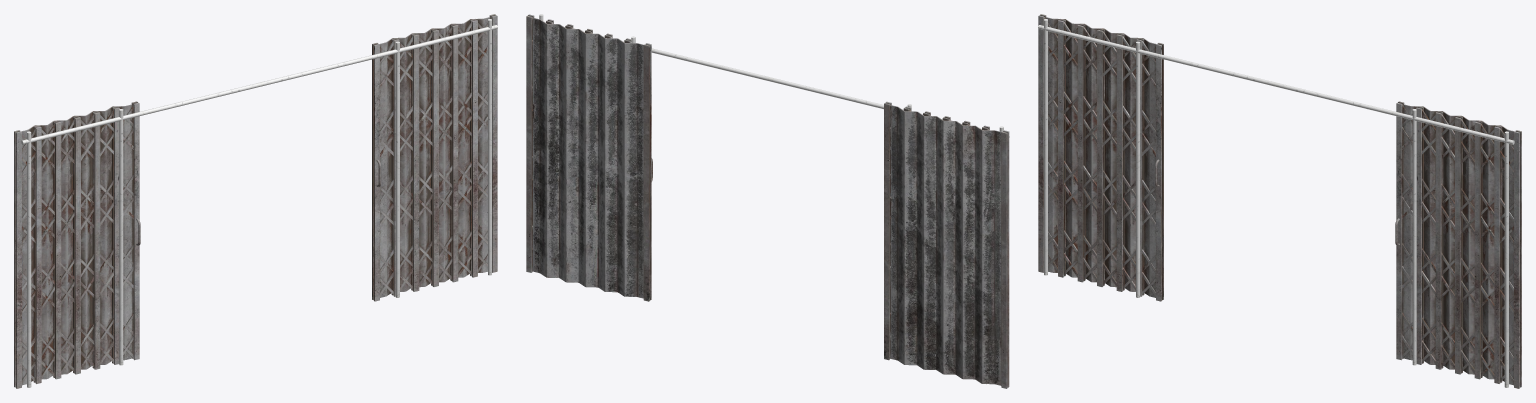
Rendered from SM_Folding_Doors_Long_Open.glb.
3 renders of one model, left to right at view 1: azimuth 30°, elevation 25°; view 2: azimuth 150°, elevation 25°; view 3: azimuth 330°, elevation 25°, orthographic.
Parts seen in each view (by area): view 1: SM_Folding_Doors_Long_Open; view 2: SM_Folding_Doors_Long_Open; view 3: SM_Folding_Doors_Long_Open.
Part boxes in pixels (x1=…): SM_Folding_Doors_Long_Open: x1=14, y1=14, x2=497, y2=388; SM_Folding_Doors_Long_Open: x1=526, y1=14, x2=1009, y2=388; SM_Folding_Doors_Long_Open: x1=1038, y1=14, x2=1521, y2=388.
Bounding box in the file's own units: 5.22 × 2.65 × 0.1509.
2 materials, 2 textured.
